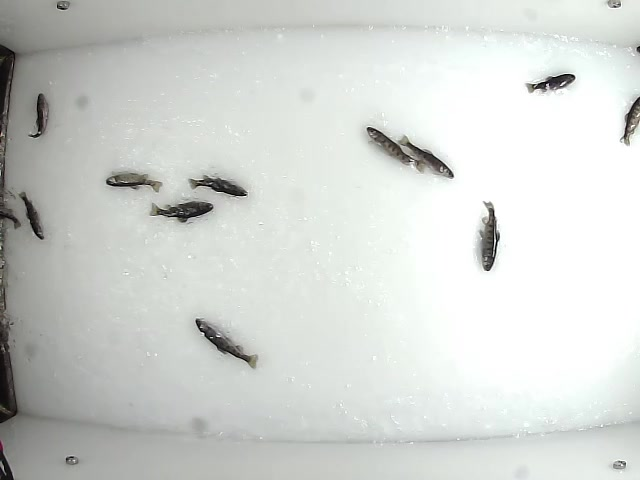fish: (365, 124, 428, 177), (195, 318, 258, 371), (398, 135, 455, 180), (476, 198, 502, 272), (147, 199, 215, 224), (185, 174, 250, 199), (522, 68, 576, 98), (102, 171, 164, 195), (17, 189, 45, 241), (25, 90, 48, 139)
